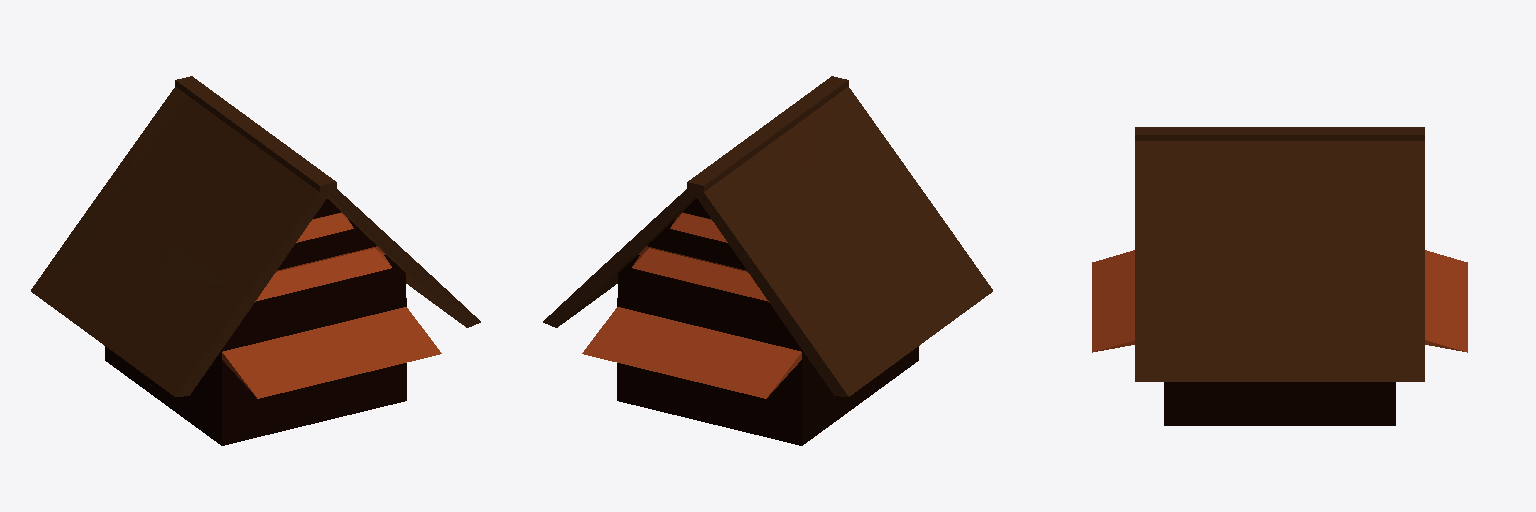
Rendered from House.obj.
3 renders of one model, left to right at view 1: azimuth 30°, elevation 25°; view 2: azimuth 150°, elevation 25°; view 3: azimuth 270°, elevation 25°, orthographic.
Visible parts, largest first — view 1: House; view 2: House; view 3: House.
Part boxes in pixels (x1,y1,x2,y2): House: (31,76,480,445); House: (543,76,992,445); House: (1092,127,1467,425).
Bounding box in the file's own units: 8.22 × 6.4 × 8.73.